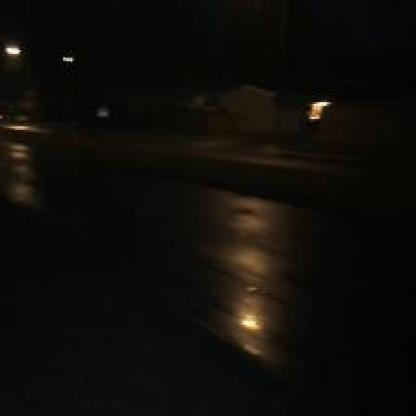other: (222, 297, 277, 344), (308, 90, 343, 132), (2, 38, 32, 65)
